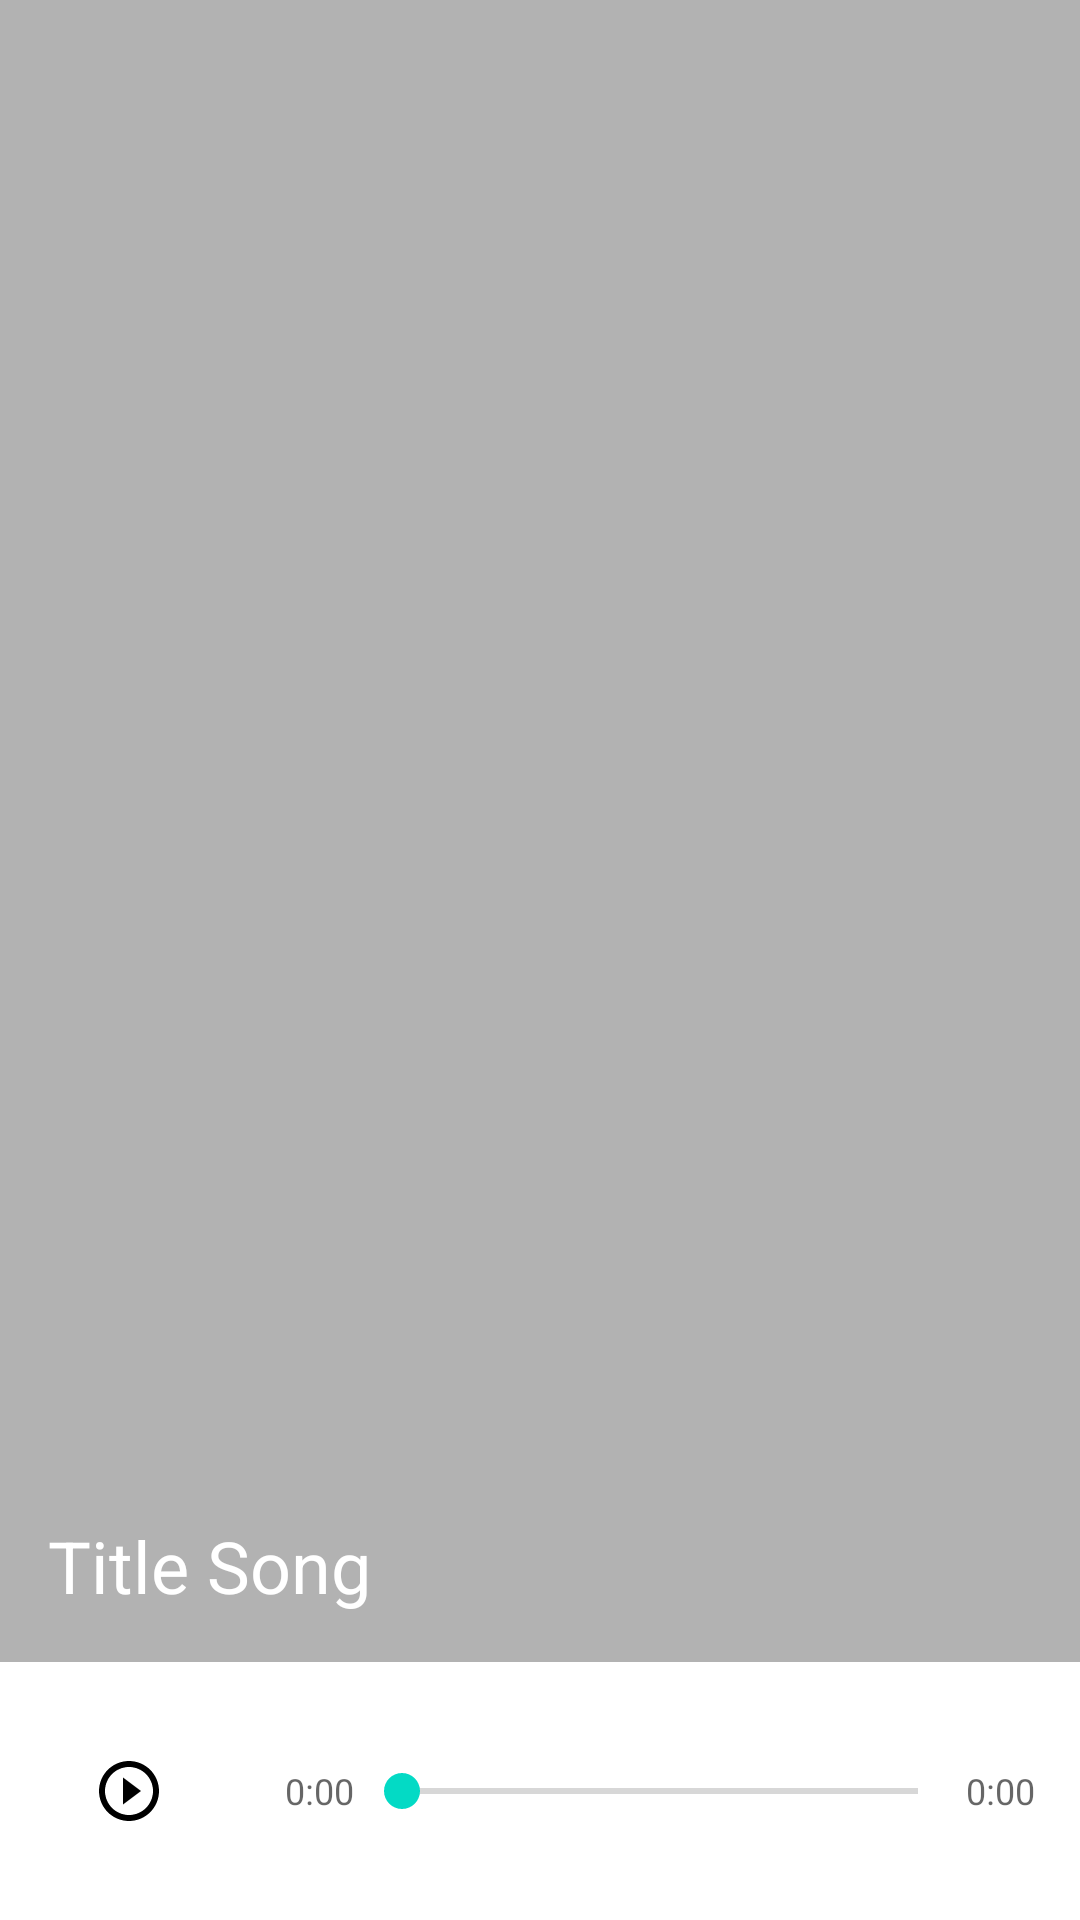

Named icons in this screenshot (1080 x 1920) and their bounding boxes, box=[x1, y1, x2, y2]:
playic: box=[99, 1761, 159, 1821]
